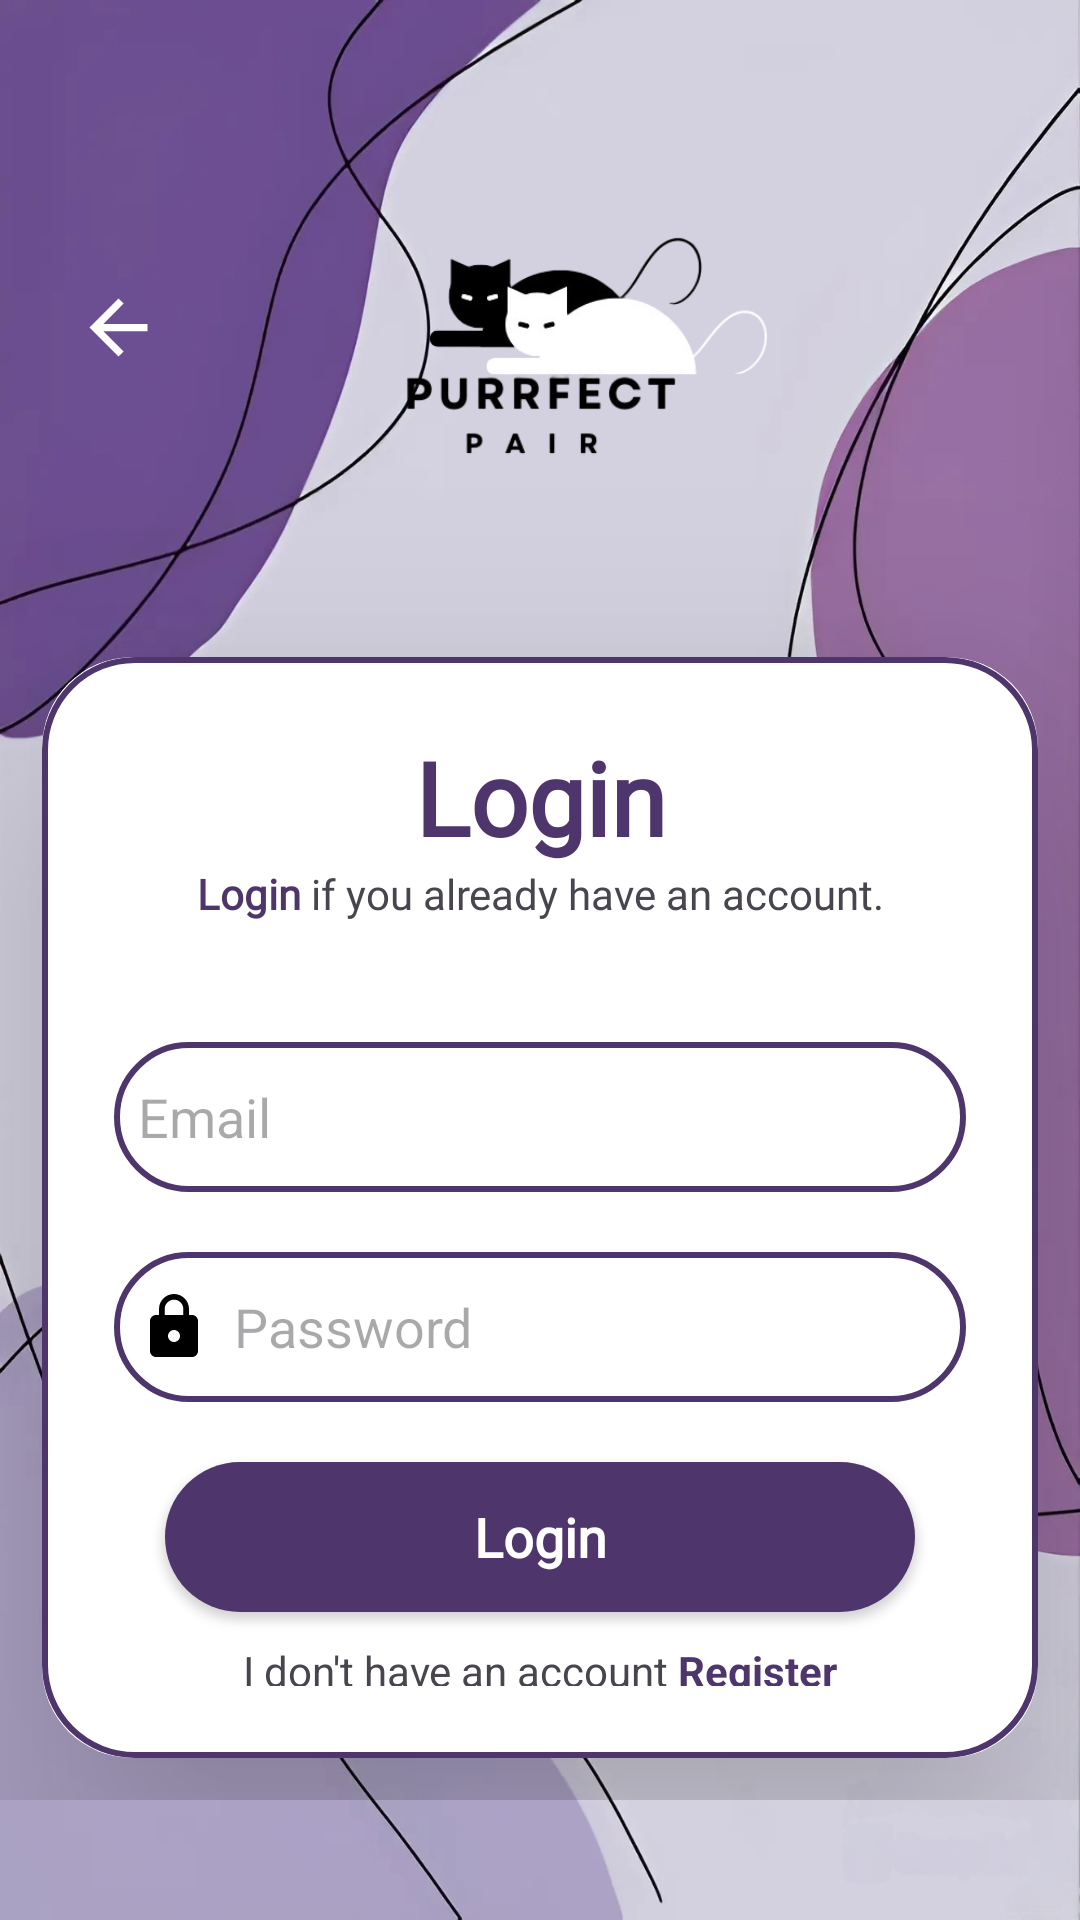

Icon click points for this 1080*1920 phone screenshot, format (x,y):
arrow back: (118,327)
